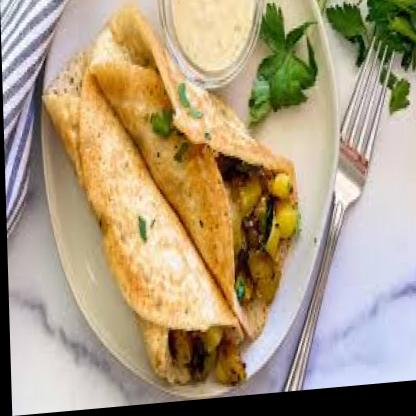dosa: (88, 0, 300, 352), (41, 41, 243, 403)
